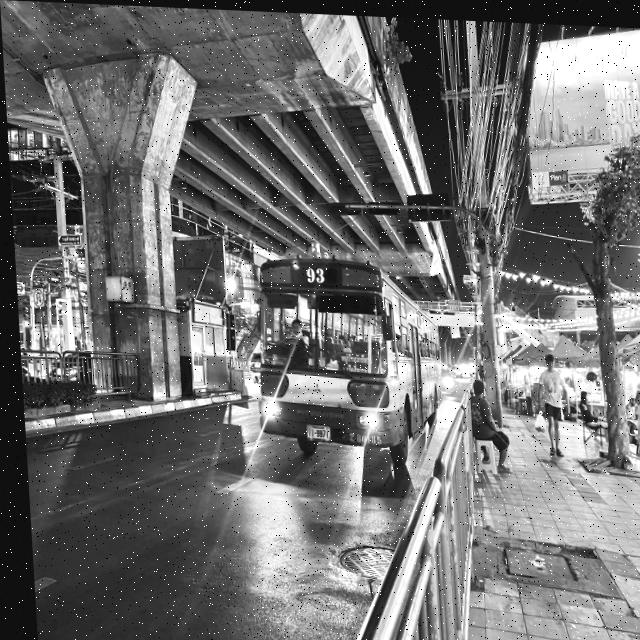BMTA-bus: (254, 253, 431, 485)
Bus Line Number: (289, 259, 340, 284)
Bus Side Number: (343, 426, 378, 444)
Destination Sign: (334, 348, 371, 370)
